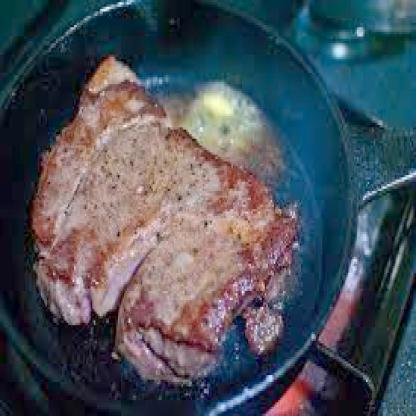Carne: (27, 82, 303, 390)
